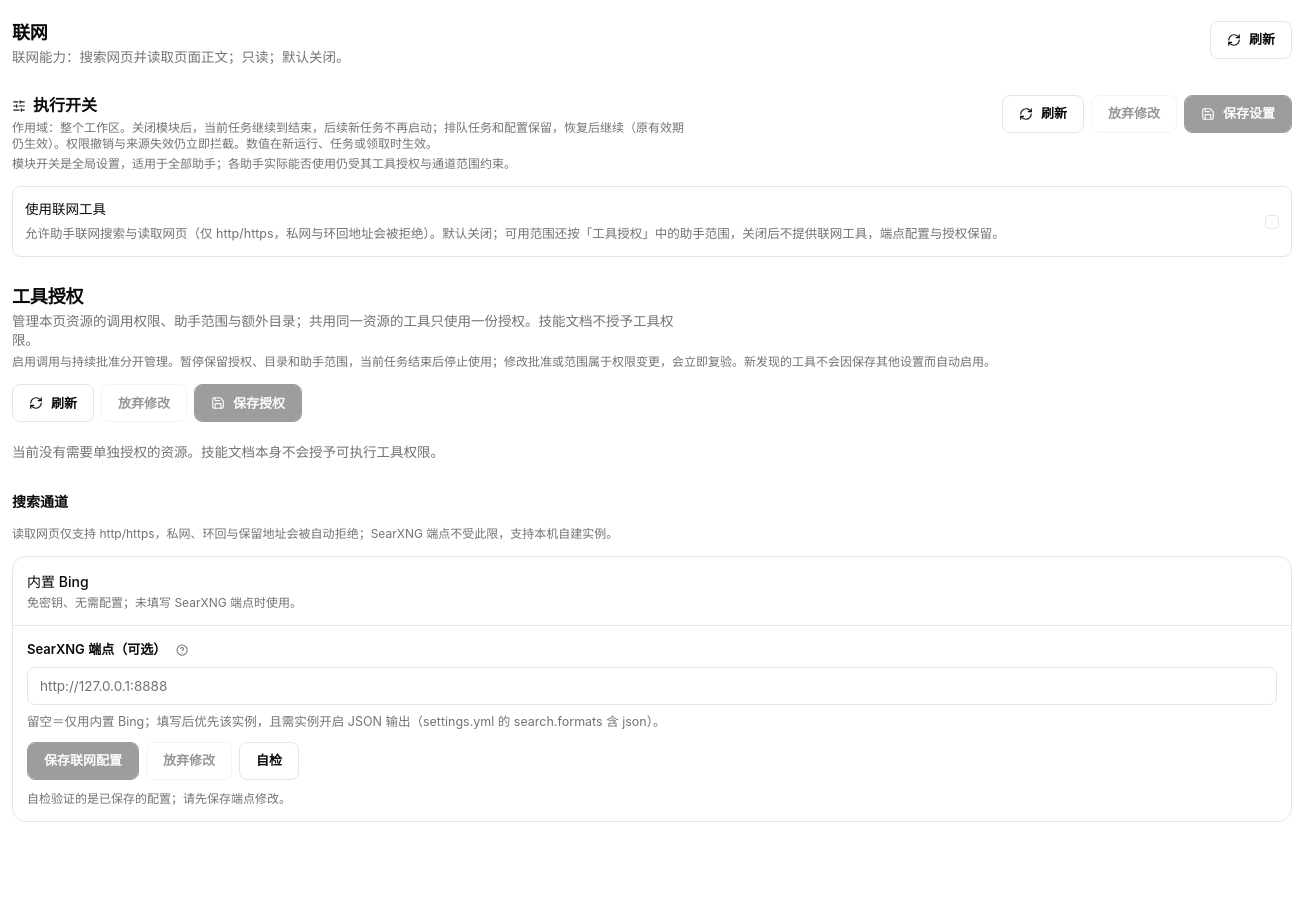
Test case: web access panel › keeps the draft and prompts a reread on a 409 conflict
In the field labelled "SearXNG 端点（可选）": [652, 686] box [27,666,1277,704], type "http://127.0.0.1:9999"
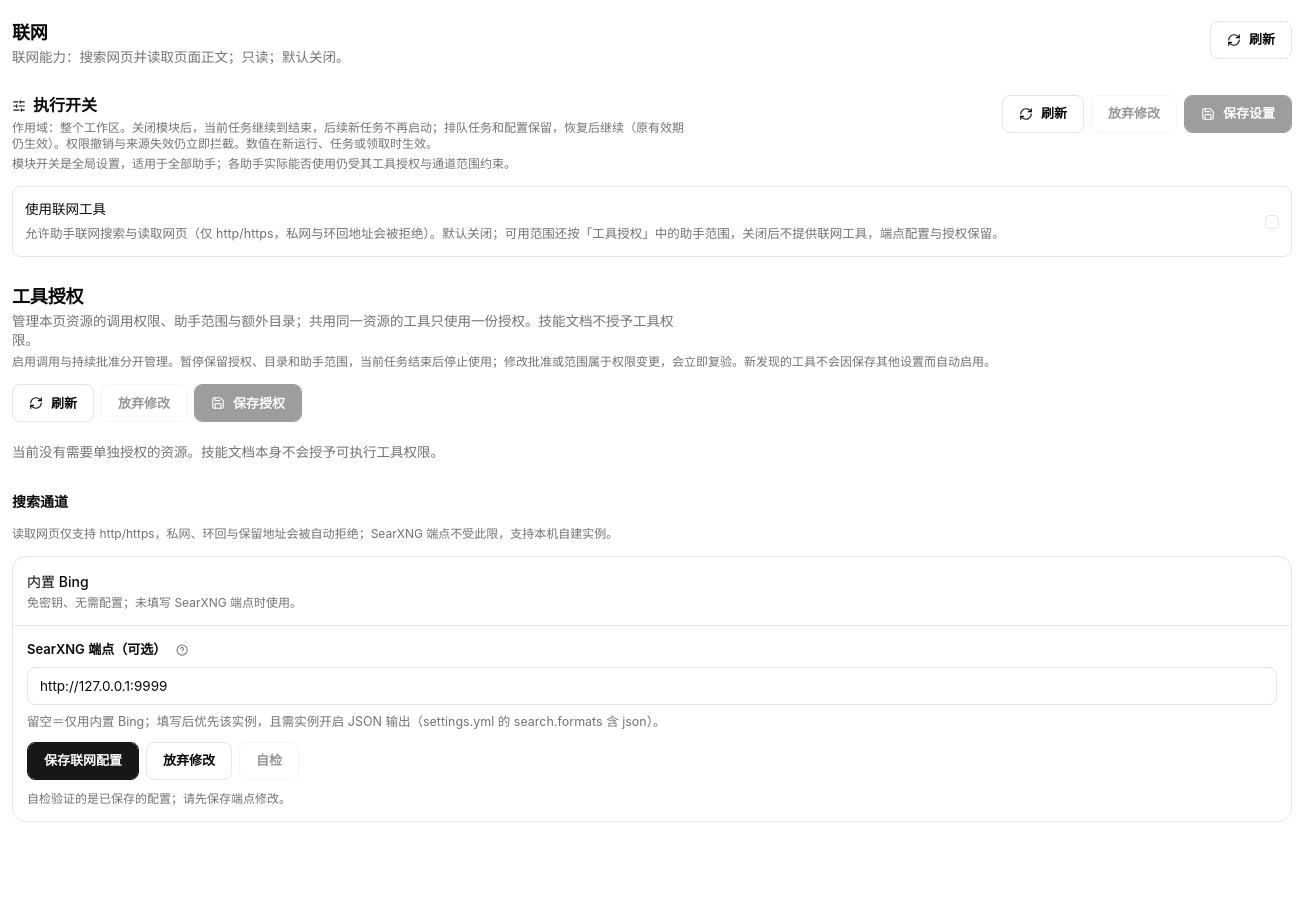
Click the button "保存联网配置": [83, 761] box [27,742,139,780]
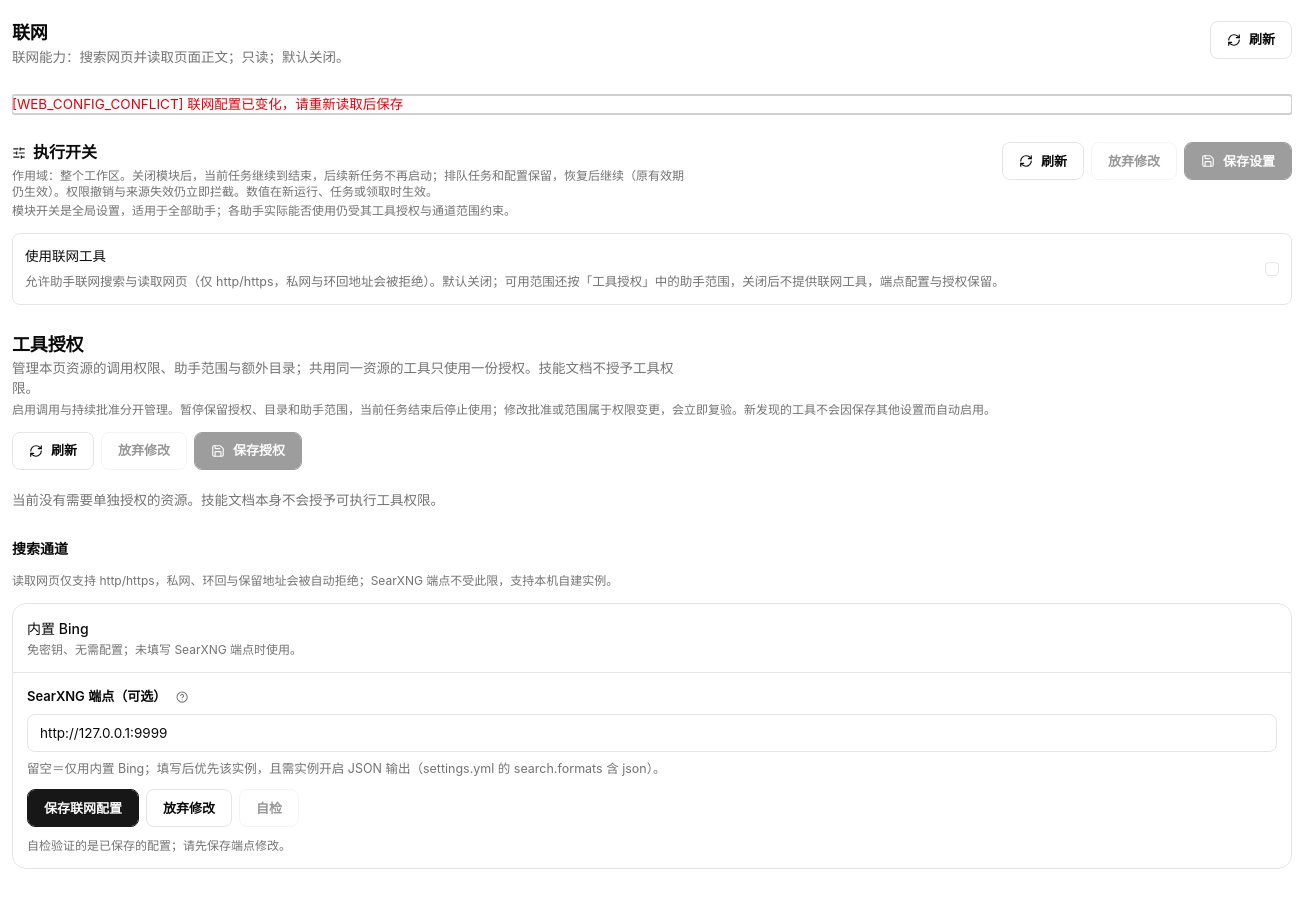
Now the message shows "联网配置已变化", box [12,96,403,112]
